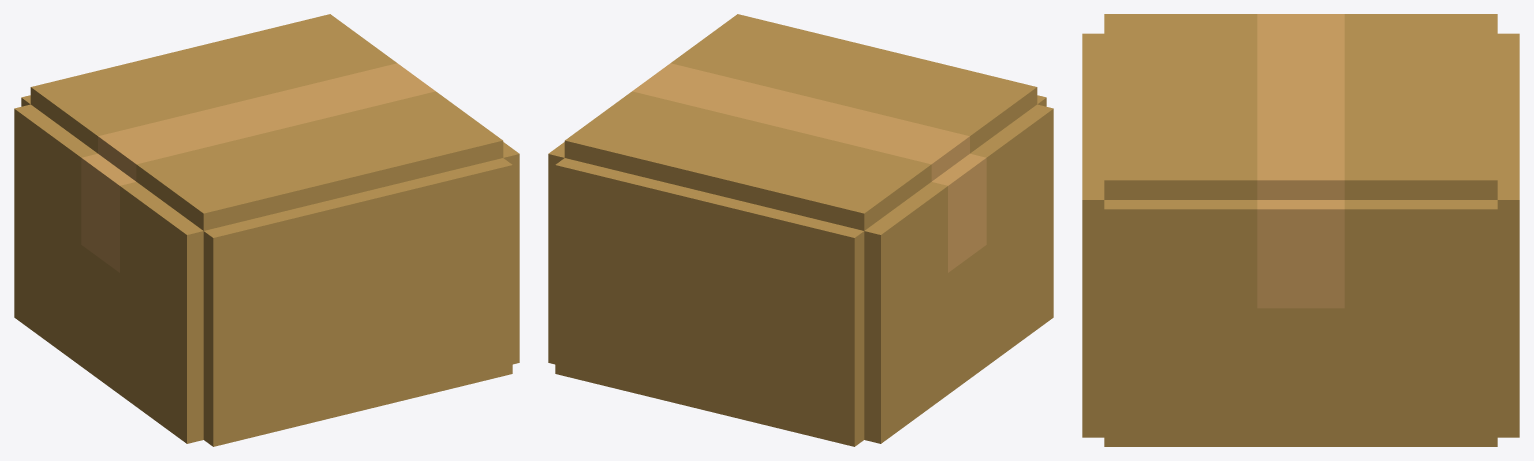
File: Kiste.fbx
3 views of the same model, side by side, from view 1: azimuth 30°, elevation 25°; view 2: azimuth 150°, elevation 25°; view 3: azimuth 270°, elevation 25° (orthographic). The views are drawn at different scales.
Parts seen in each view (by area): view 1: Kiste; view 2: Kiste; view 3: Kiste.
Boxes of the visible parts, bbox=[...] form: Kiste: bbox=[14, 14, 519, 446]; Kiste: bbox=[548, 14, 1053, 446]; Kiste: bbox=[1082, 14, 1519, 446].
Size of the model in its own units: 125 by 81.25 by 125.
